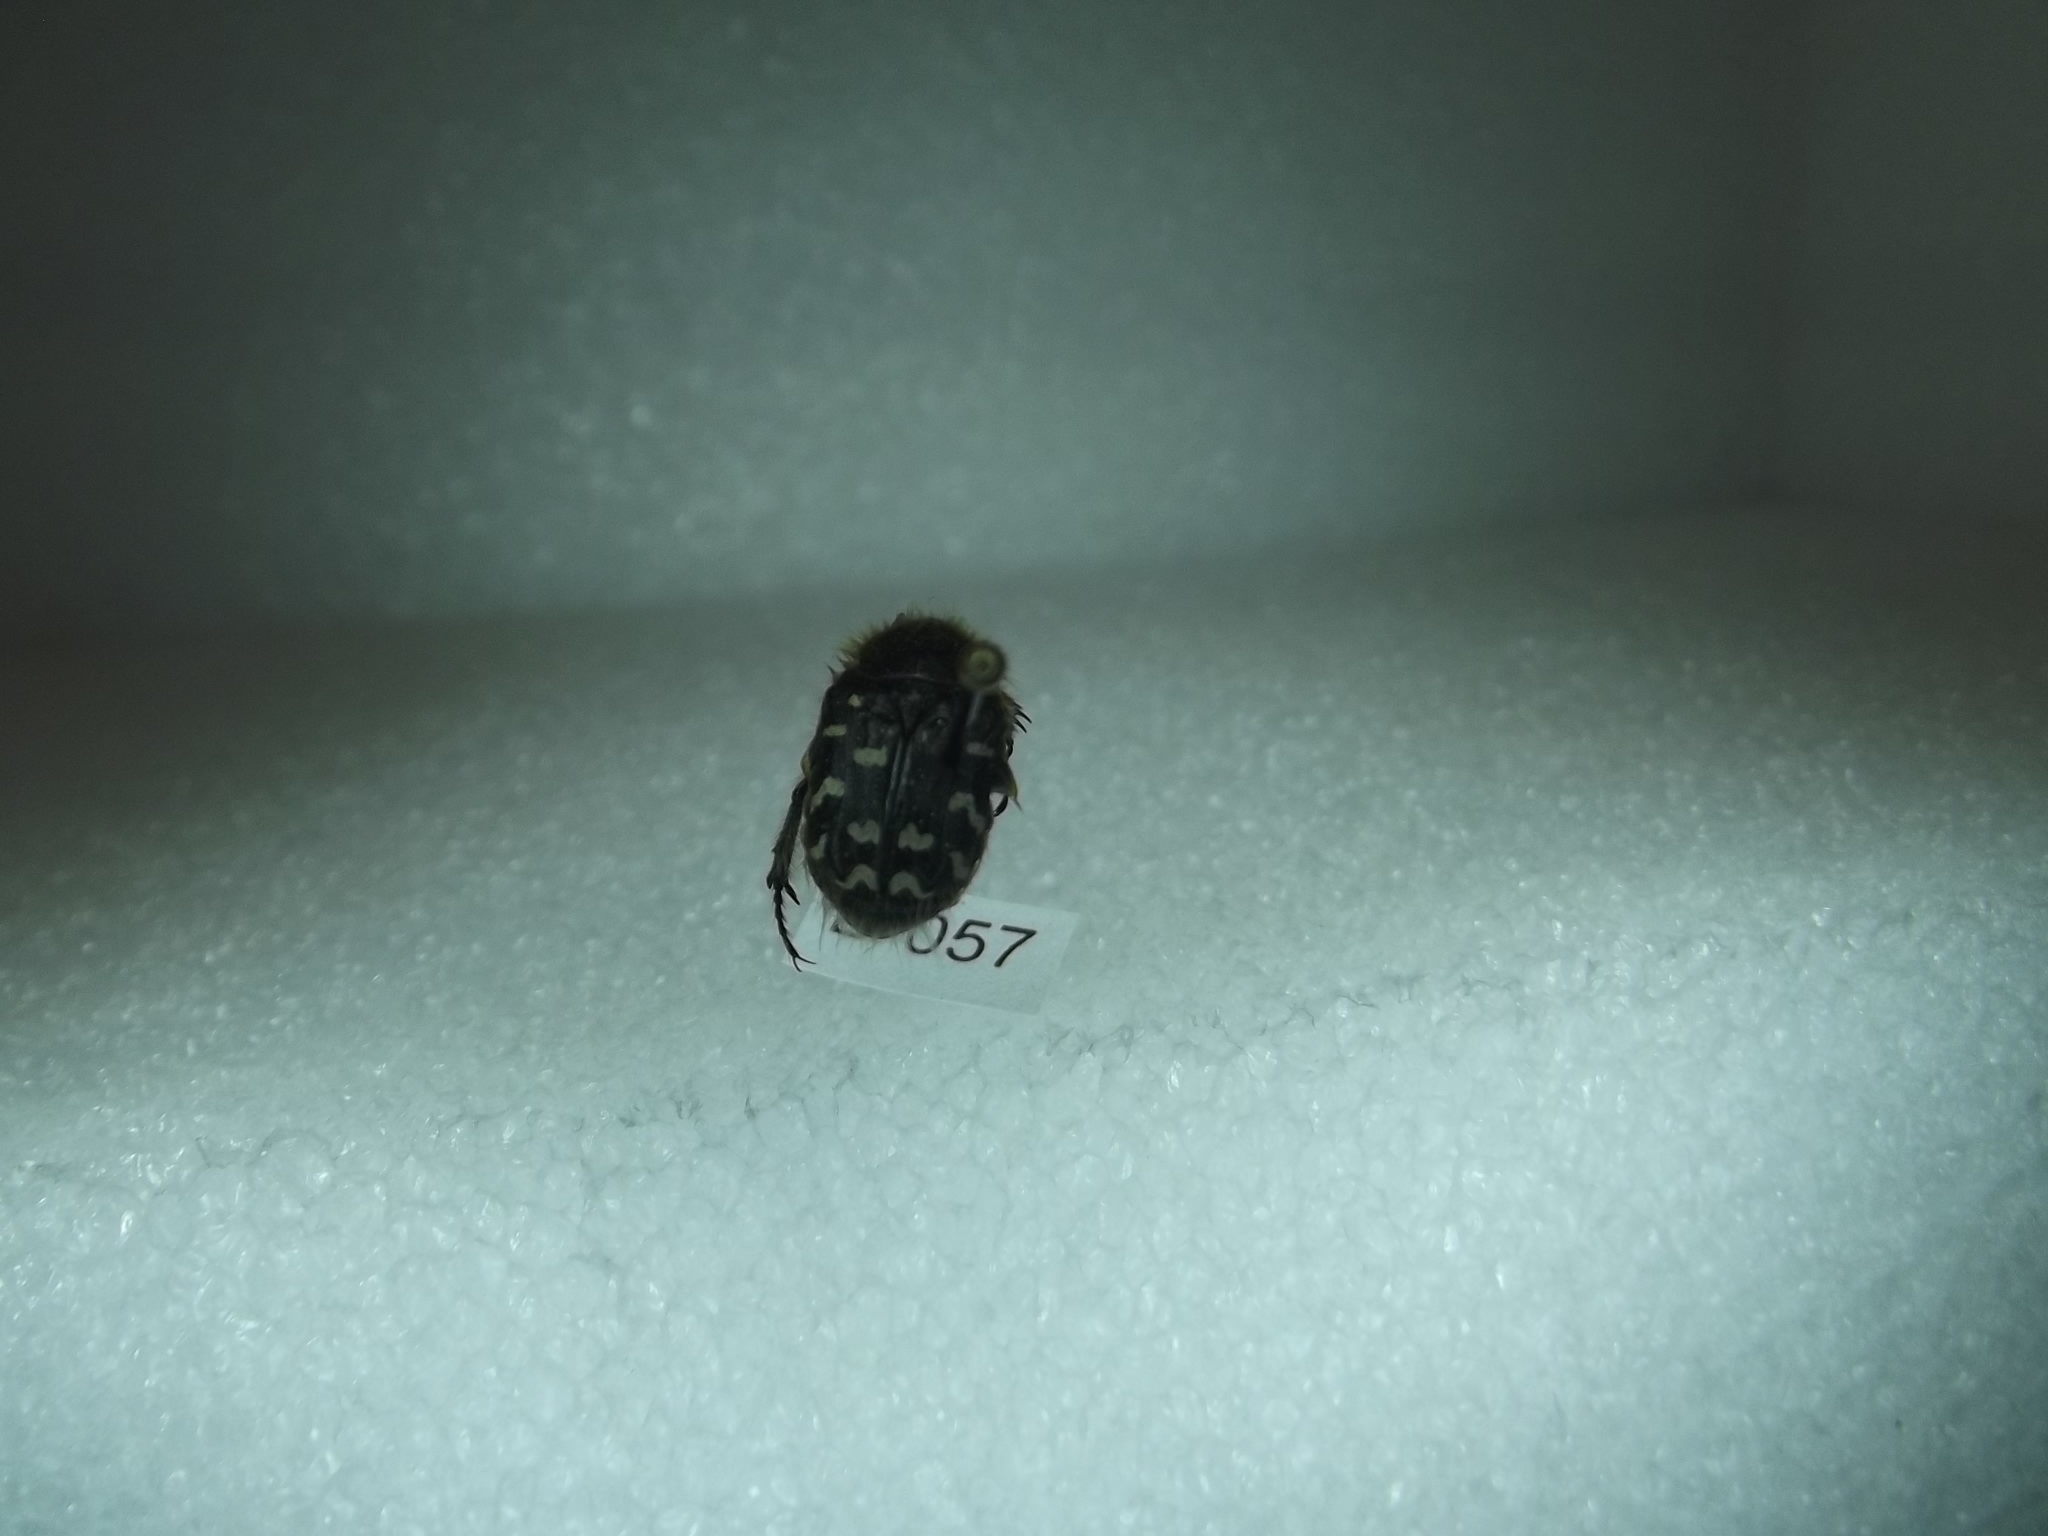Tropinota_hirta: (764, 605, 1047, 971)
